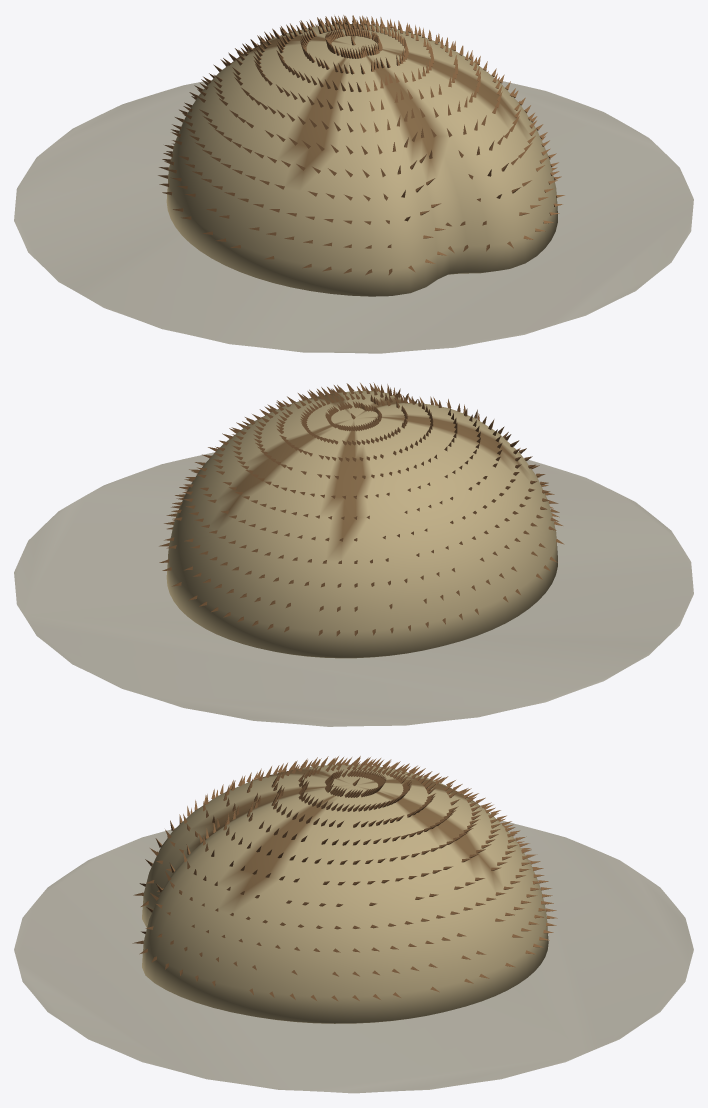
File: Micraster.fbx
The picture shows the model from 3 angles, top to bottom: view 1: azimuth 30°, elevation 25°; view 2: azimuth 150°, elevation 25°; view 3: azimuth 270°, elevation 25°; orthographic projection.
Visible parts, largest first — view 1: Micraster; view 2: Micraster; view 3: Micraster.
Boxes of the visible parts, box(x1,y1,x2,y2) form: Micraster: box(14, 15, 693, 353); Micraster: box(14, 382, 693, 726); Micraster: box(14, 756, 693, 1093).
Size of the model in its own units: 1.8 by 0.524 by 1.8.
